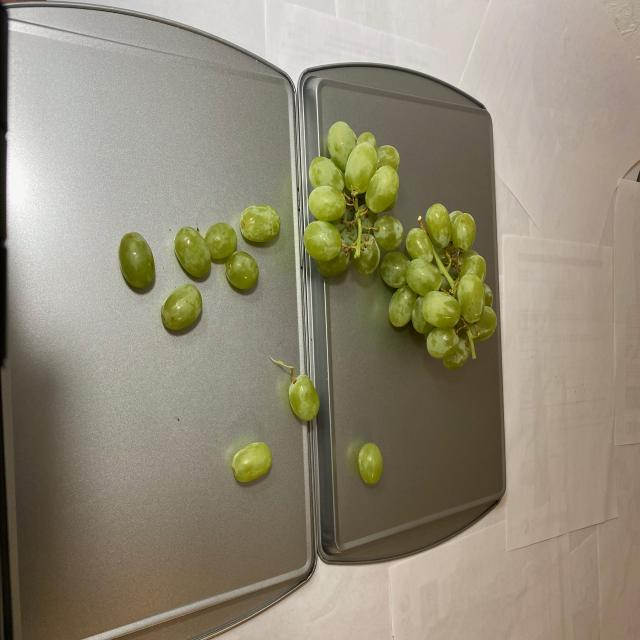Grapes: (306, 122, 497, 368), (118, 204, 280, 330), (232, 374, 385, 490)
